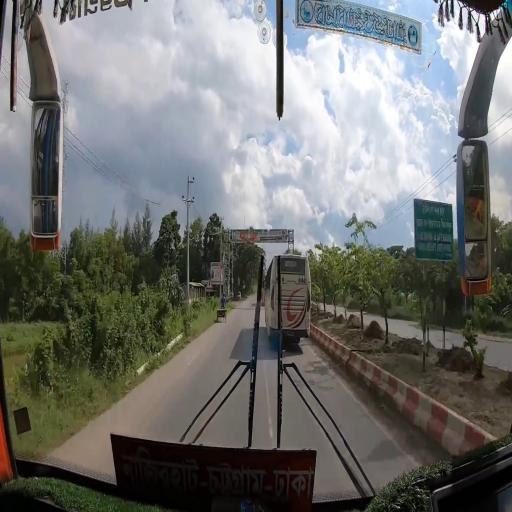bus: (265, 257, 311, 341)
